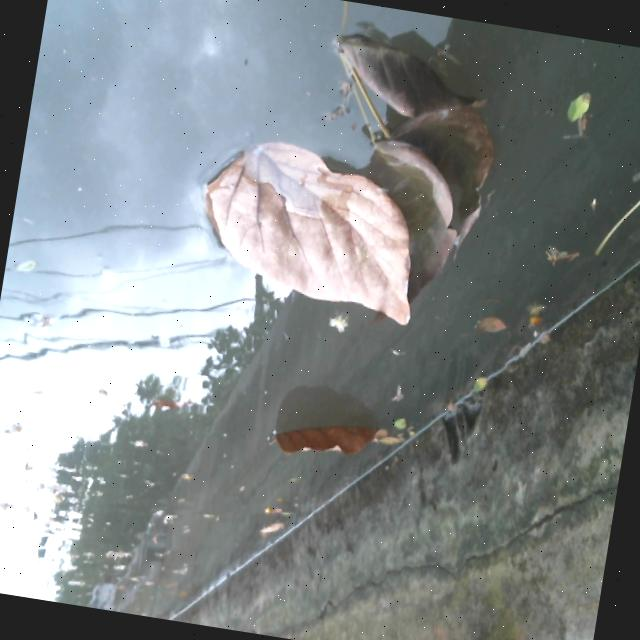Big-leaf: (296, 33, 512, 302), (175, 146, 434, 341), (256, 399, 406, 484)
Small-leaf: (561, 84, 597, 128), (256, 510, 291, 544), (147, 386, 185, 416), (469, 367, 497, 407), (475, 308, 510, 335), (261, 494, 293, 520), (15, 254, 39, 284), (526, 305, 544, 338), (393, 415, 409, 432)
